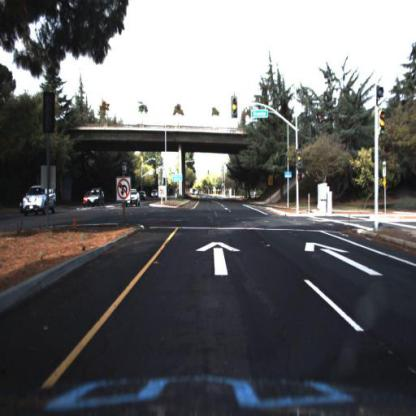car: (20, 184, 59, 221), (88, 185, 109, 209), (125, 190, 142, 208), (90, 189, 106, 207), (142, 189, 150, 206), (153, 190, 162, 203)
trafficLight-Yellow: (379, 110, 387, 138), (295, 149, 303, 170), (231, 99, 238, 119)
